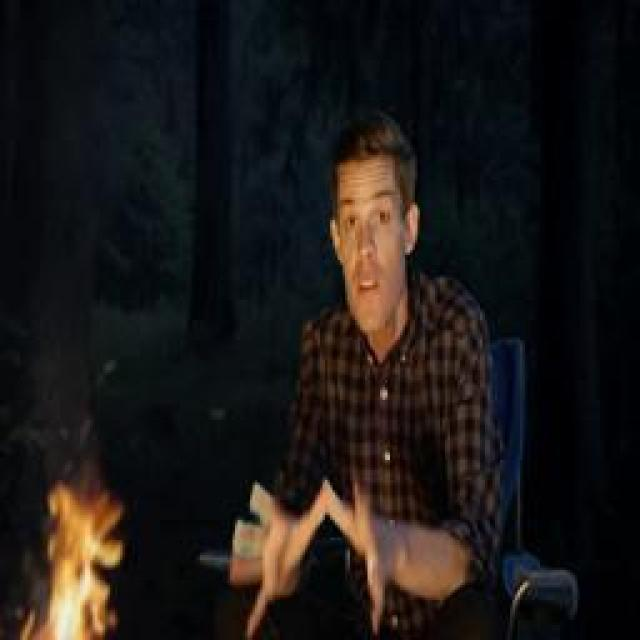Fire: (18, 475, 124, 640)
